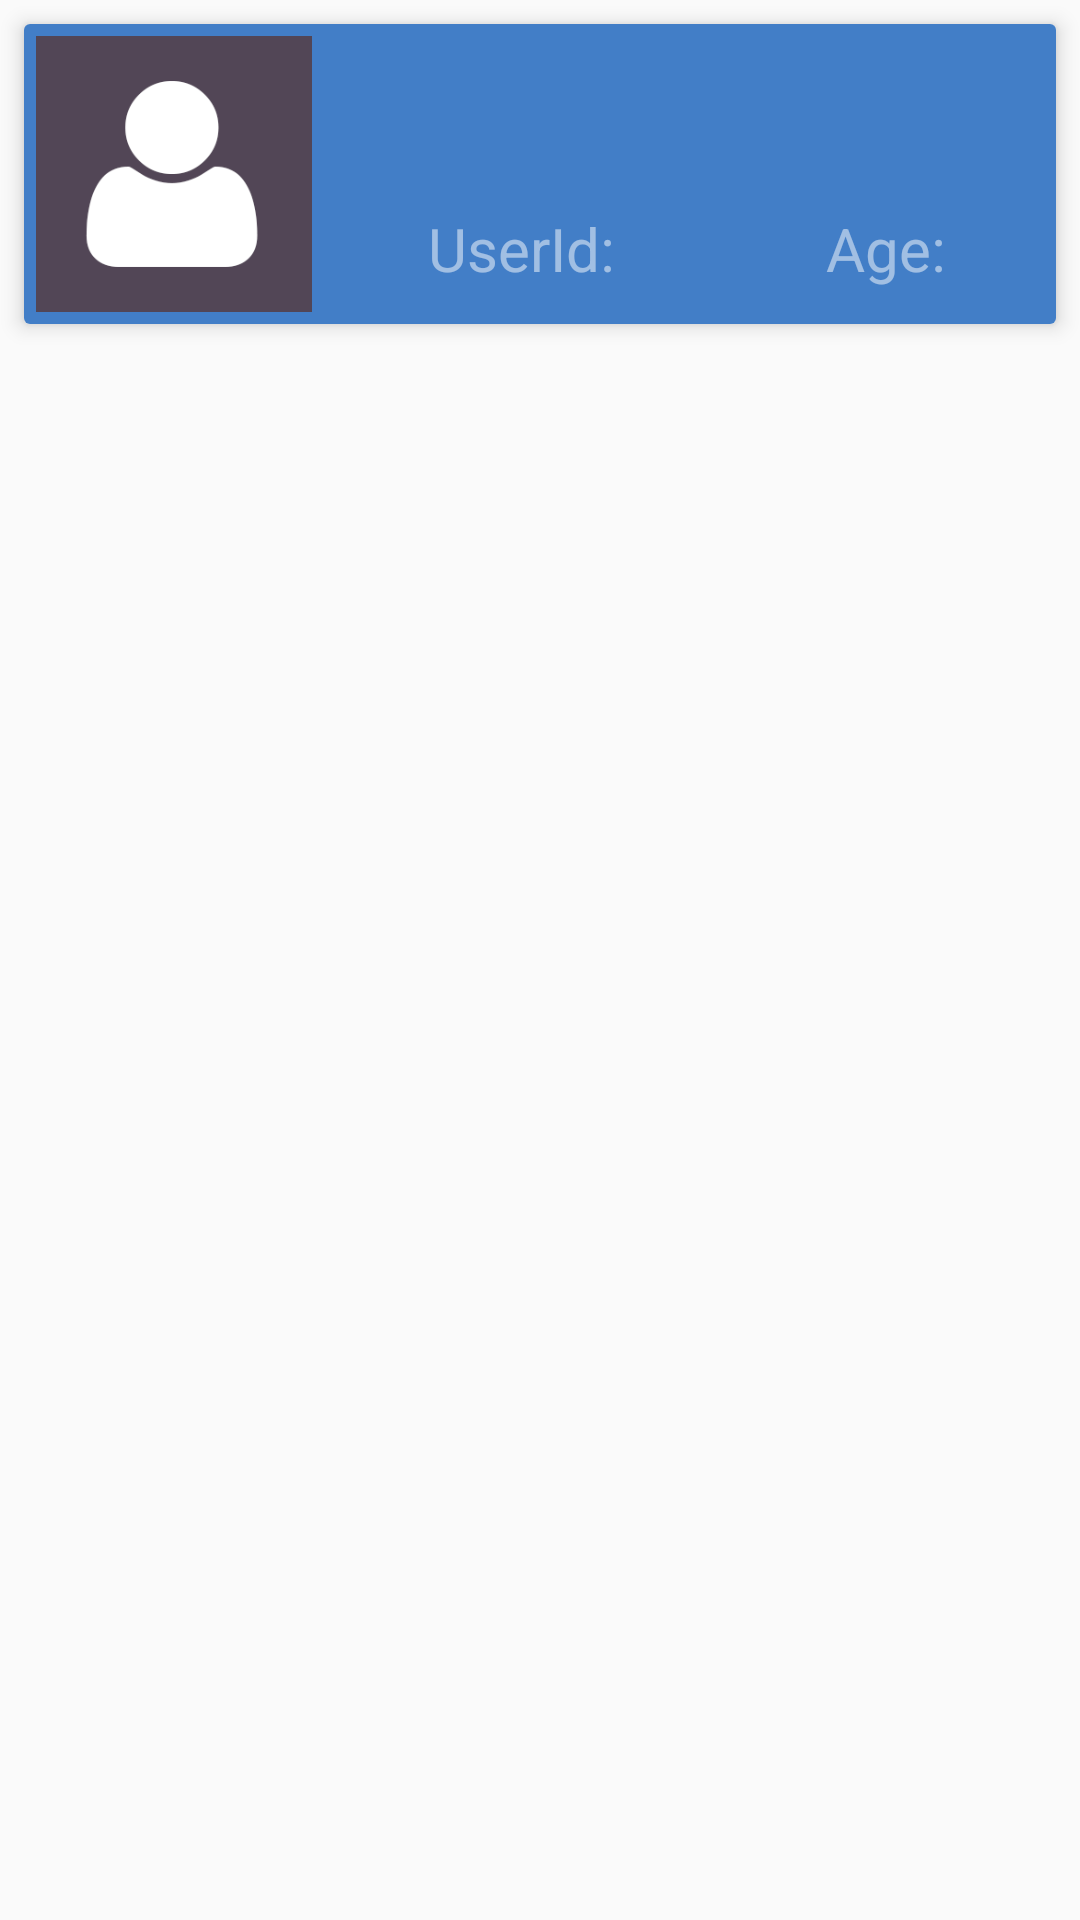

Where icons sit on this 1080 × 1920 app screen, as BBox(x1, y1, x2, y2):
patient image: BBox(24, 24, 324, 324)
